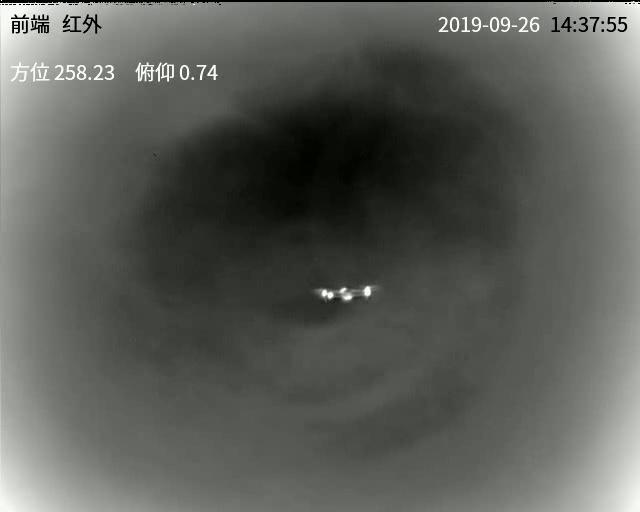DRONE: (319, 284, 374, 306)
